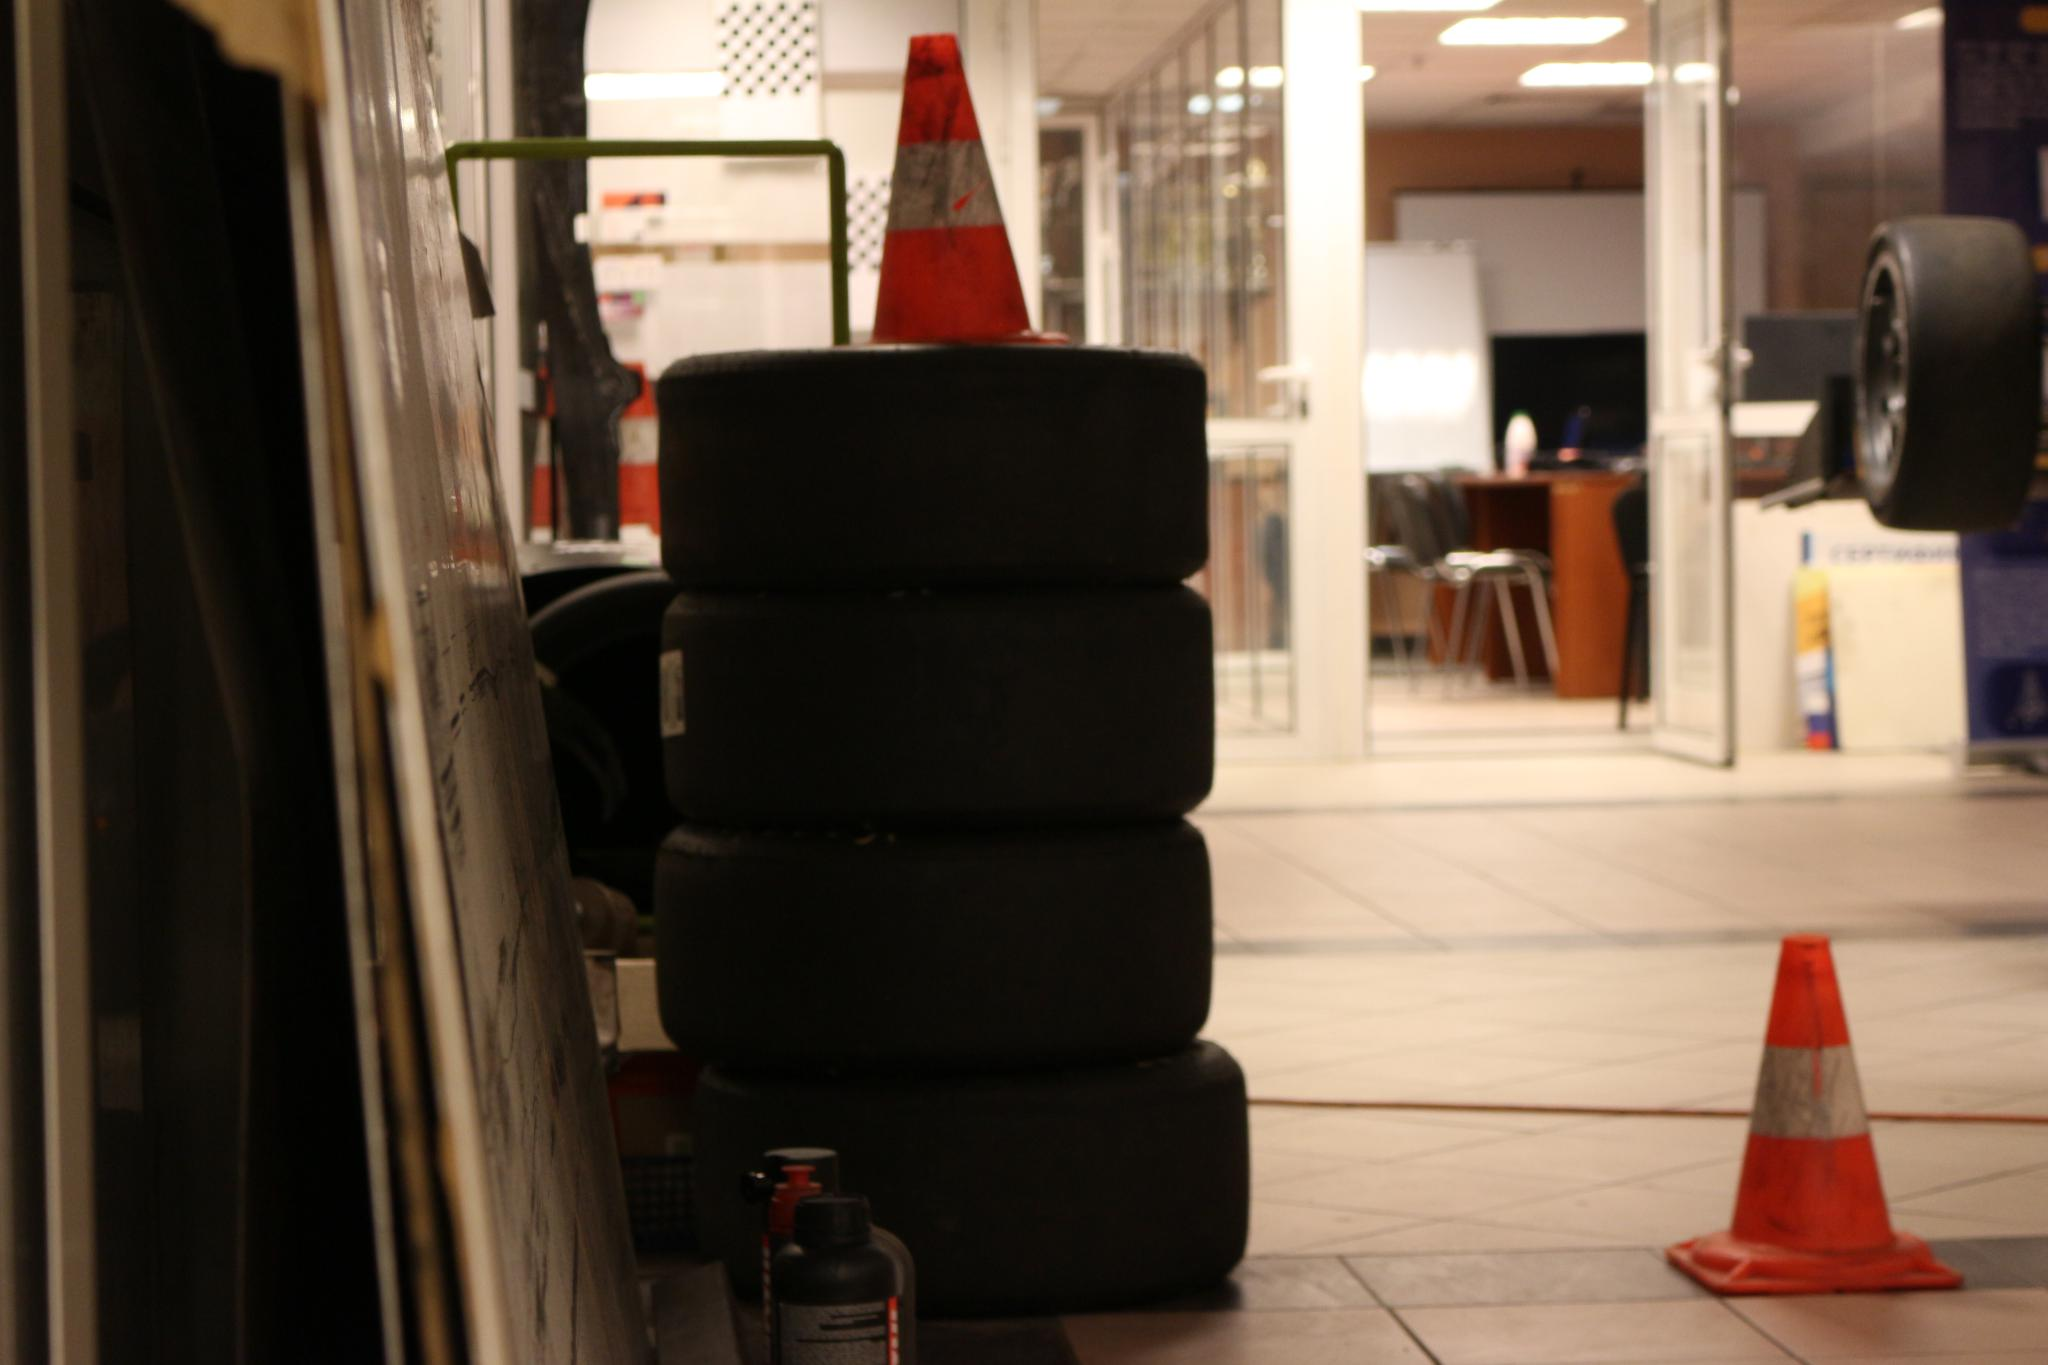Orange_Cone: (1658, 911, 1967, 1307), (805, 34, 1110, 398)
